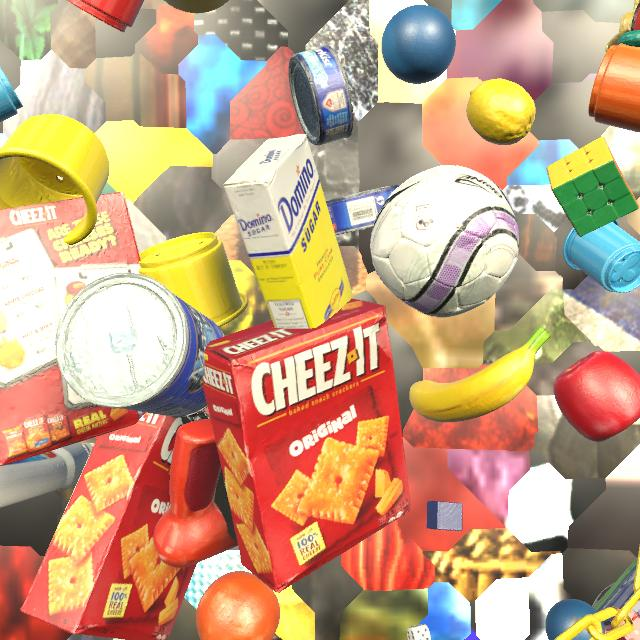ycb_002_master_chef_can: (55, 273, 225, 418)
ycb_003_cracker_box: (203, 298, 411, 593), (20, 412, 197, 640), (0, 192, 145, 466)
ycb_004_sugar_box: (223, 134, 354, 328)
ycb_007_tuna_fish_can: (288, 45, 354, 145), (326, 184, 400, 235)
ycb_011_banana: (409, 327, 551, 423)
ycb_013_apple: (553, 351, 640, 442)
ycb_014_lemon: (466, 79, 536, 145)
ycb_017_orange: (196, 571, 280, 640)
